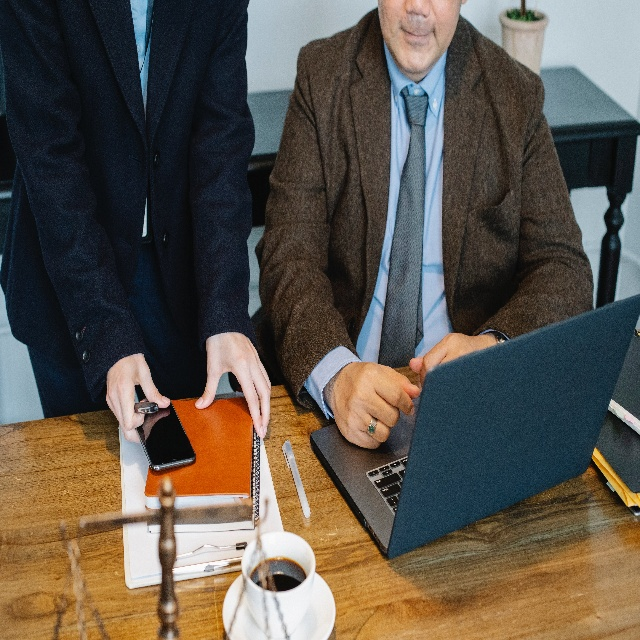Sin_guantes: (332, 355, 422, 450), (195, 334, 273, 441), (103, 350, 171, 444), (407, 327, 497, 385)
